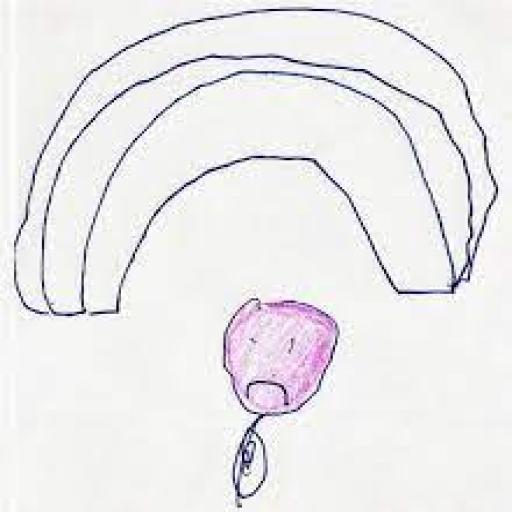person: (208, 280, 356, 508)
